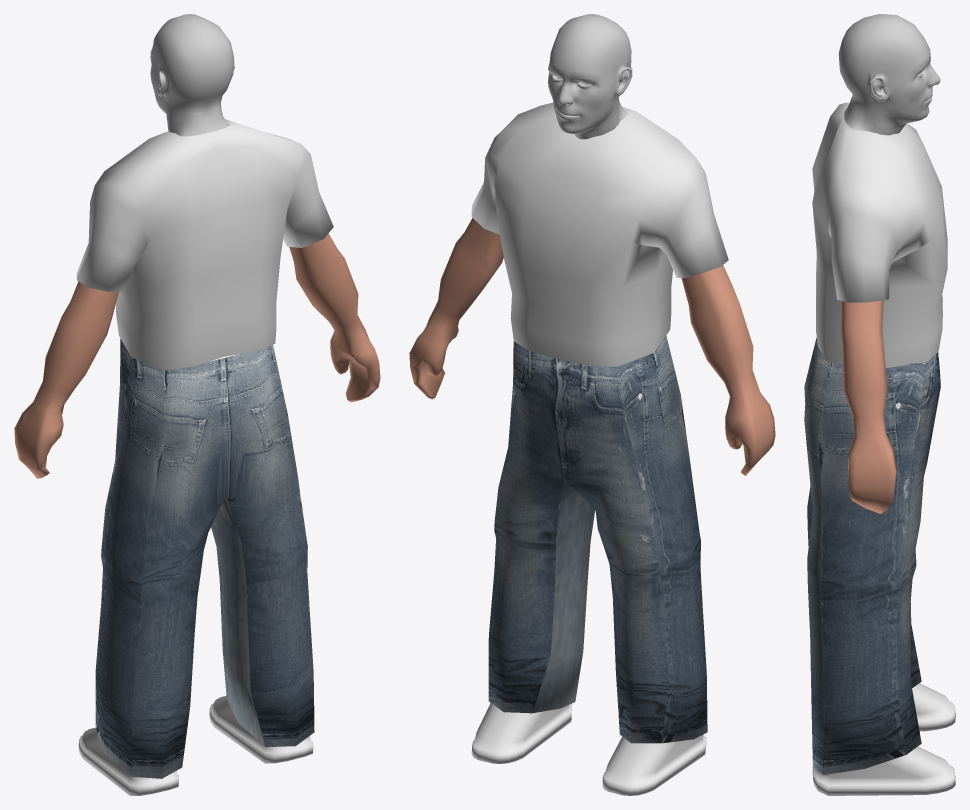
Rendered from CRMP.fbx.
The picture shows the model from 3 angles, left to right: view 1: azimuth 30°, elevation 25°; view 2: azimuth 150°, elevation 25°; view 3: azimuth 270°, elevation 25°; orthographic projection.
Parts seen in each view (by area): view 1: Cube.004, Cube.001, Cube.002, Cube.003, Cube; view 2: Cube.004, Cube.001, Cube.002, Cube.003, Cube; view 3: Cube.004, Cube.001, Cube.003, Cube.002, Cube.
Part boxes in pixels (left/top/right/bottom): Cube.004: left=95, top=338, right=314, bottom=778; Cube.001: left=76, top=119, right=333, bottom=370; Cube.002: left=14, top=233, right=380, bottom=478; Cube.003: left=150, top=14, right=234, bottom=136; Cube: left=78, top=696, right=313, bottom=795; Cube.004: left=488, top=335, right=707, bottom=743; Cube.001: left=471, top=102, right=728, bottom=366; Cube.002: left=409, top=218, right=775, bottom=475; Cube.003: left=548, top=14, right=632, bottom=139; Cube: left=471, top=703, right=706, bottom=795; Cube.004: left=804, top=337, right=940, bottom=774; Cube.001: left=812, top=102, right=947, bottom=367; Cube.003: left=838, top=14, right=940, bottom=135; Cube.002: left=841, top=300, right=896, bottom=513; Cube: left=812, top=683, right=955, bottom=795.
Bounding box in the file's own units: 129 × 263 × 49.21.
